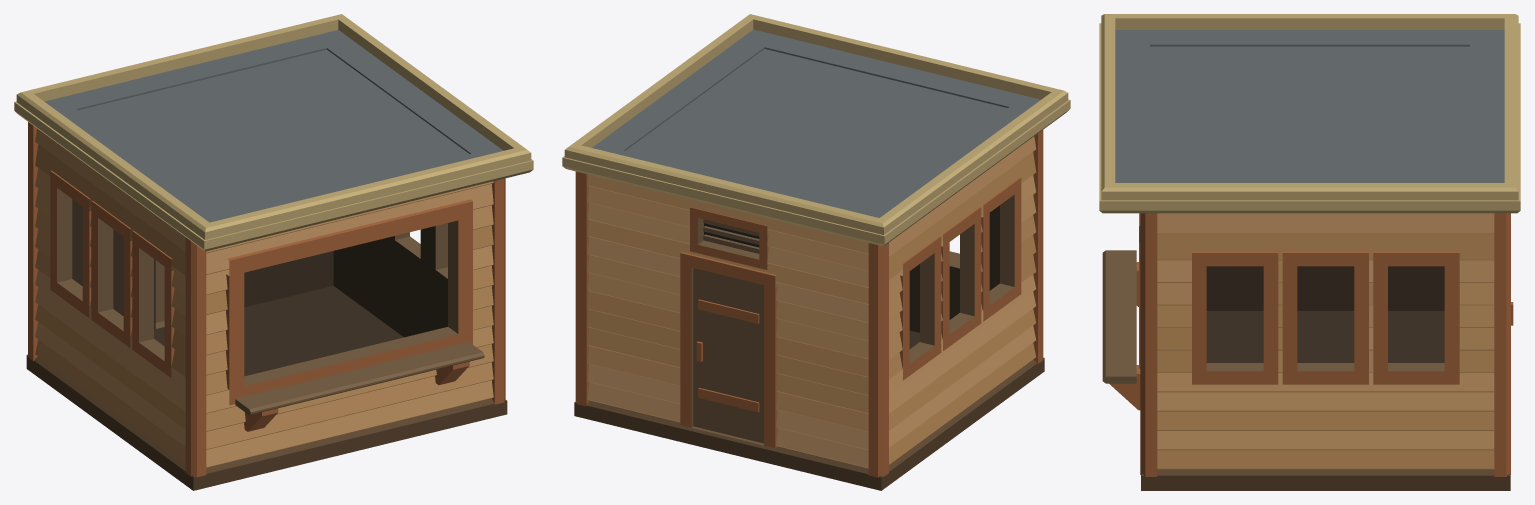
Rendered from coffee-kiosk-406d3e.glb.
The picture shows the model from 3 angles, left to right: view 1: azimuth 30°, elevation 25°; view 2: azimuth 150°, elevation 25°; view 3: azimuth 270°, elevation 25°; orthographic projection. The views are drawn at different scales.
Parts seen in each view (by area): view 1: coffee-kiosk-shell, counter-shelf-leaf, door-back-leaf; view 2: coffee-kiosk-shell, door-back-leaf; view 3: coffee-kiosk-shell, counter-shelf-leaf.
Boxes of the visible parts, x1=… form: coffee-kiosk-shell: x1=14, y1=14, x2=533, y2=490; counter-shelf-leaf: x1=235, y1=342, x2=484, y2=415; door-back-leaf: x1=155, y1=260, x2=164, y2=322; coffee-kiosk-shell: x1=562, y1=14, x2=1070, y2=490; door-back-leaf: x1=693, y1=268, x2=763, y2=443; coffee-kiosk-shell: x1=1099, y1=14, x2=1520, y2=490; counter-shelf-leaf: x1=1102, y1=250, x2=1136, y2=383.
Size of the model in its own units: 4 by 3.2 by 4.
